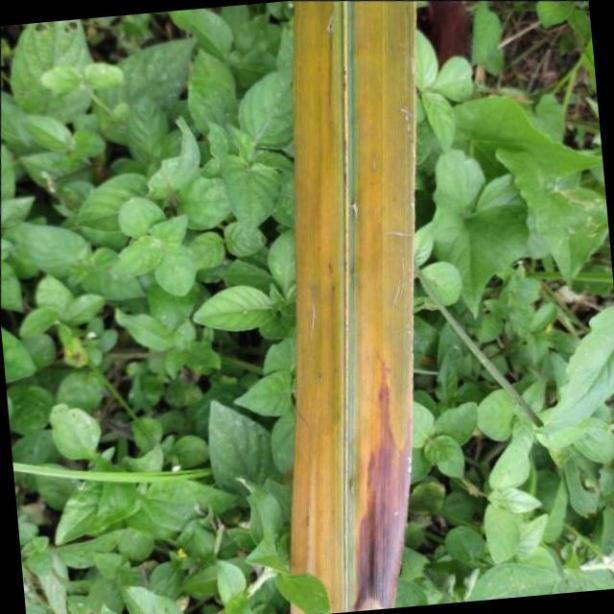Megnesium: (284, 0, 420, 614)
